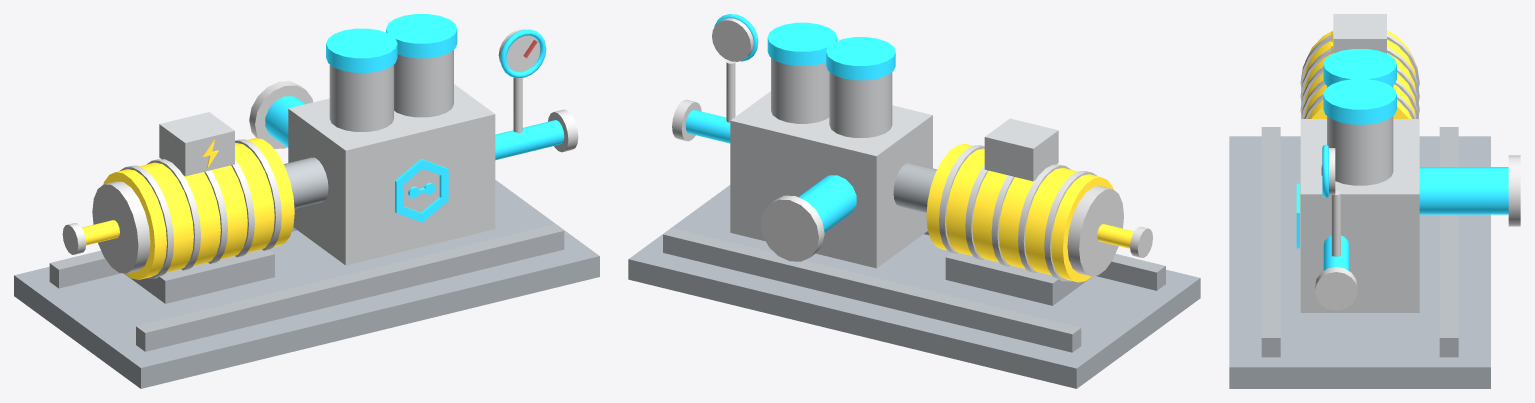
The model's file is Compressor.glb.
3 renders of one model, left to right at view 1: azimuth 30°, elevation 25°; view 2: azimuth 150°, elevation 25°; view 3: azimuth 270°, elevation 25°, orthographic. The views are drawn at different scales.
Parts seen in each view (by area): view 1: plinth, block, rail (×2), motor, cylinder_head (×2), head_cap (×2), rib (×5), motor_foot, end_cap, terminal_box, pipe (×2), flange (×2) (+6 smaller); view 2: plinth, block, rail (×2), motor, cylinder_head (×2), head_cap (×2), rib (×5), flange (×2), motor_foot, terminal_box, end_cap, pipe (×2) (+5 smaller); view 3: plinth, block, rail (×2), head_cap (×2), pipe (×2), cylinder_head, flange (×2), rib (×5), motor, terminal_box, gauge, gauge_stem (+1 smaller).
Boxes of the visible parts, x1,y1,x2,y2 form: plinth: (14, 180, 599, 388); block: (288, 84, 495, 265); rail (×2): (49, 224, 564, 351); motor: (103, 138, 294, 279); cylinder_head (×2): (329, 50, 453, 131); head_cap (×2): (326, 14, 457, 72); rib (×5): (120, 139, 281, 278); motor_foot: (124, 249, 274, 303); end_cap: (92, 181, 150, 273); terminal_box: (159, 112, 234, 176); pipe (×2): (265, 96, 564, 160); flange (×2): (249, 81, 578, 152); plinth: (628, 185, 1200, 388); block: (730, 91, 932, 268); rail (×2): (663, 228, 1165, 352); motor: (926, 144, 1113, 282); cylinder_head (×2): (771, 58, 892, 137); head_cap (×2): (767, 22, 895, 80); rib (×5): (939, 145, 1096, 281); flange (×2): (672, 99, 824, 261); motor_foot: (945, 252, 1092, 305); terminal_box: (984, 118, 1058, 181); end_cap: (1067, 186, 1123, 276); pipe (×2): (685, 110, 856, 232); plinth: (1229, 136, 1490, 388); block: (1300, 119, 1419, 312); rail (×2): (1261, 127, 1458, 357); head_cap (×2): (1323, 49, 1396, 124); pipe (×2): (1323, 167, 1508, 270); cylinder_head: (1327, 116, 1393, 185); flange (×2): (1315, 155, 1520, 310); rib (×5): (1300, 34, 1419, 118); motor: (1304, 30, 1415, 118); terminal_box: (1333, 14, 1386, 53); gauge: (1322, 144, 1335, 198); gauge_stem: (1331, 191, 1340, 256).
Size of the model in its own units: 4.87 by 2.2 by 2.45.
